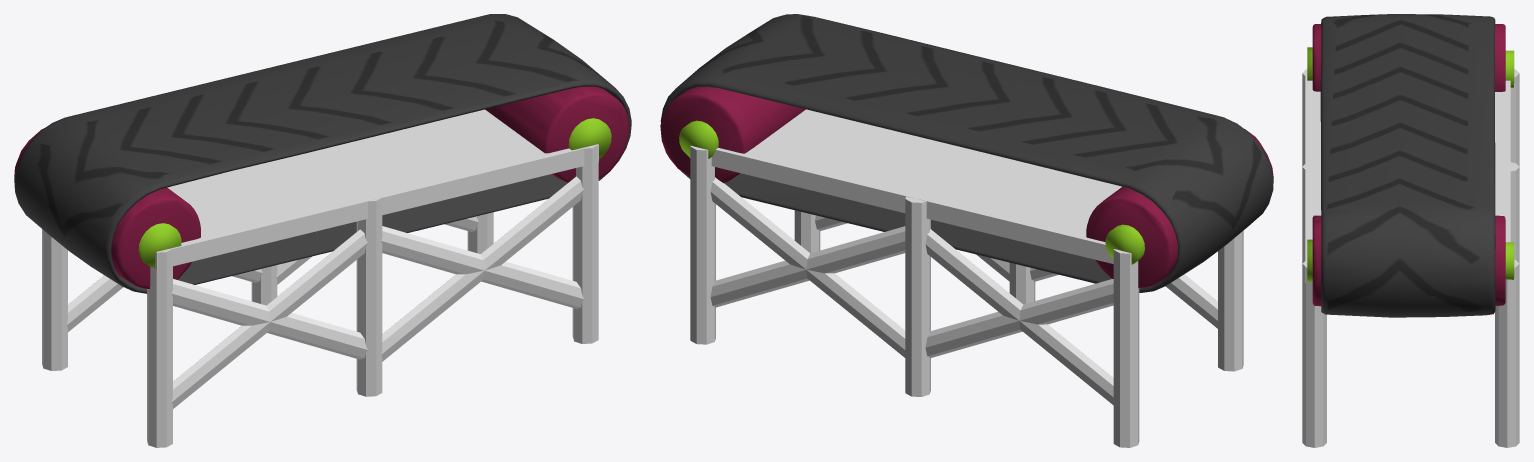
The model's file is banda trans.fbx.
The picture shows the model from 3 angles, left to right: view 1: azimuth 30°, elevation 25°; view 2: azimuth 150°, elevation 25°; view 3: azimuth 270°, elevation 25°; orthographic projection. The views are drawn at different scales.
Parts seen in each view (by area): view 1: Banda1, Cube, Banda2.000, Cylinder.004, Cylinder.005, Cylinder.003, Cylinder.006, Cylinder, Cylinder.002, Cylinder.001, Cylinder.013, banda3.001 (+3 smaller); view 2: Banda1, Cube, Banda2.000, Cylinder.013, Cylinder.009, Cylinder.008, Cylinder.010, Cylinder.011, Cylinder.007, Cylinder.012, Cylinder, banda3.001 (+3 smaller); view 3: Banda1, Cube, Cylinder.012, Cylinder.001, Banda2.000, banda3.001, Cylinder.011, Cylinder.013, Cylinder.002, Cylinder.
Part boxes in pixels (x1,y1,x2,y2): Banda1: (14, 14, 631, 293); Cube: (156, 109, 598, 269); Banda2.000: (14, 86, 629, 288); Cylinder.004: (381, 176, 583, 361); Cylinder.005: (381, 226, 583, 308); Cylinder.003: (171, 229, 367, 408); Cylinder.006: (171, 279, 381, 359); Cylinder: (147, 249, 172, 447); Cylinder.002: (356, 198, 382, 396); Cylinder.001: (572, 145, 598, 343); Cylinder.013: (42, 229, 67, 370); banda3.001: (138, 118, 611, 267); Banda1: (660, 14, 1273, 292); Cube: (711, 109, 1121, 263); Banda2.000: (660, 86, 1273, 287); Cylinder.013: (1113, 249, 1139, 447); Cylinder.009: (710, 177, 905, 357); Cylinder.008: (710, 226, 905, 307); Cylinder.010: (925, 229, 1113, 405); Cylinder.011: (905, 196, 930, 396); Cylinder.007: (925, 279, 1113, 358); Cylinder.012: (690, 146, 715, 344); Cylinder: (1218, 230, 1243, 371); banda3.001: (679, 120, 1144, 264); Banda1: (1320, 14, 1495, 317); Cube: (1305, 69, 1510, 283); Cylinder.012: (1495, 259, 1519, 447); Cylinder.001: (1302, 261, 1326, 447); Banda2.000: (1312, 24, 1505, 306); banda3.001: (1307, 47, 1514, 281); Cylinder.011: (1510, 162, 1519, 263); Cylinder.013: (1510, 69, 1519, 166); Cylinder.002: (1302, 164, 1305, 263); Cylinder: (1302, 70, 1305, 166).
Bounding box in the file's own units: 184 × 85 × 70.89.
